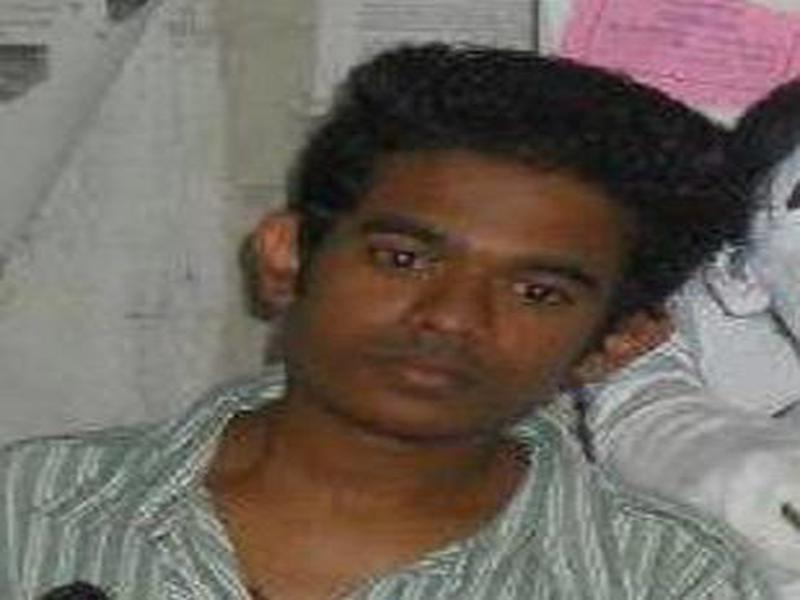without_mask: (293, 144, 608, 438)
